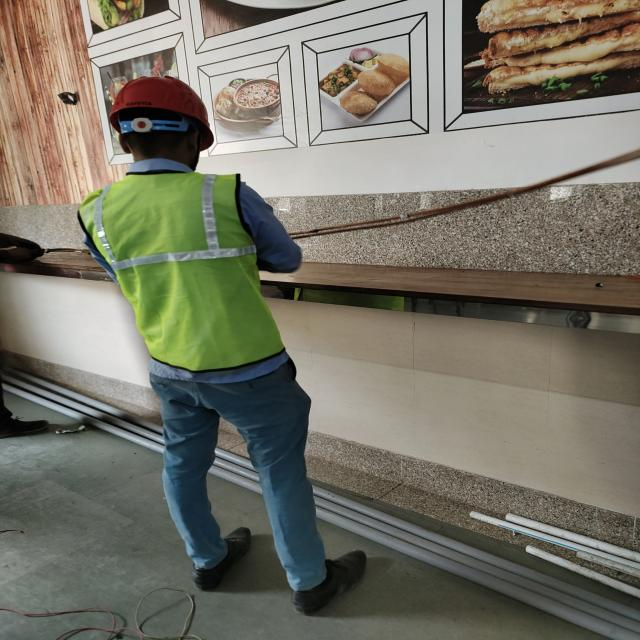safe: (78, 74, 307, 605)
